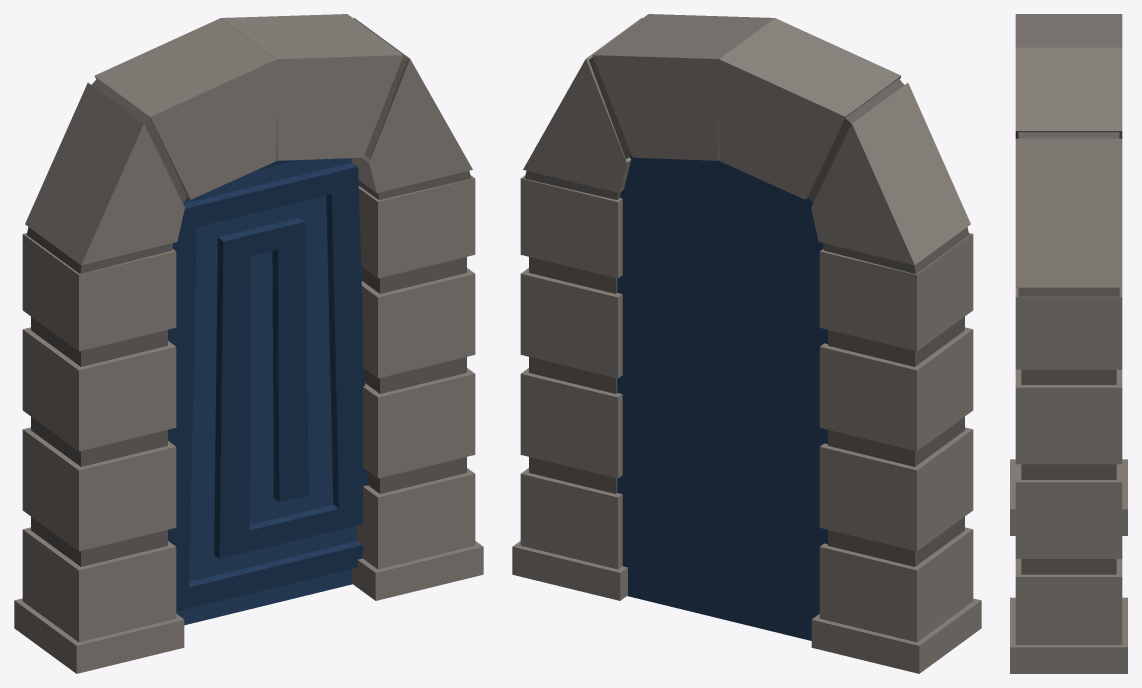
Rendered from PORTAL.fbx.
3 renders of one model, left to right at view 1: azimuth 30°, elevation 25°; view 2: azimuth 150°, elevation 25°; view 3: azimuth 270°, elevation 25°, orthographic. The views are drawn at different scales.
Parts seen in each view (by area): view 1: Cube.023; view 2: Cube.023; view 3: Cube.023.
Boxes of the visible parts, bbox=[...] form: Cube.023: bbox=[14, 14, 483, 673]; Cube.023: bbox=[512, 14, 981, 673]; Cube.023: bbox=[1010, 14, 1127, 673].
Size of the model in its own units: 1565 by 2072 by 415.
